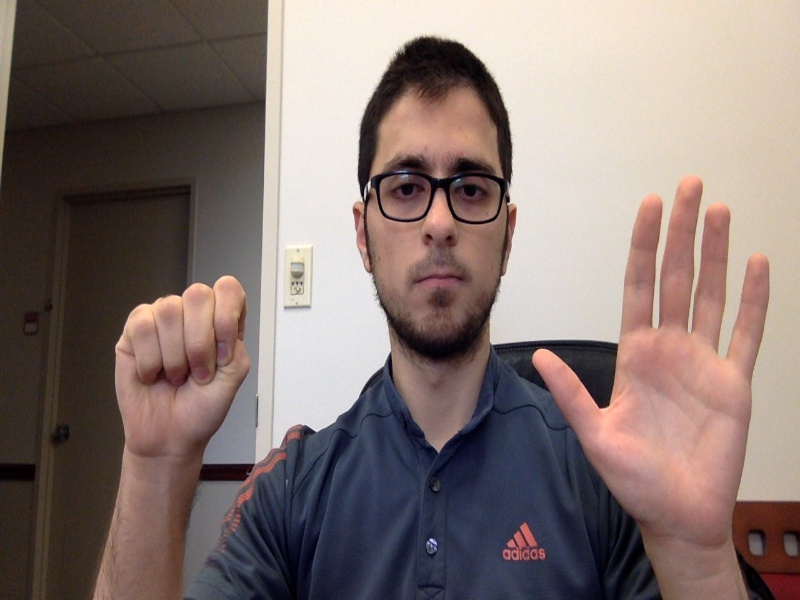0-hand: (113, 276, 250, 455)
5-hand: (533, 176, 769, 540)
